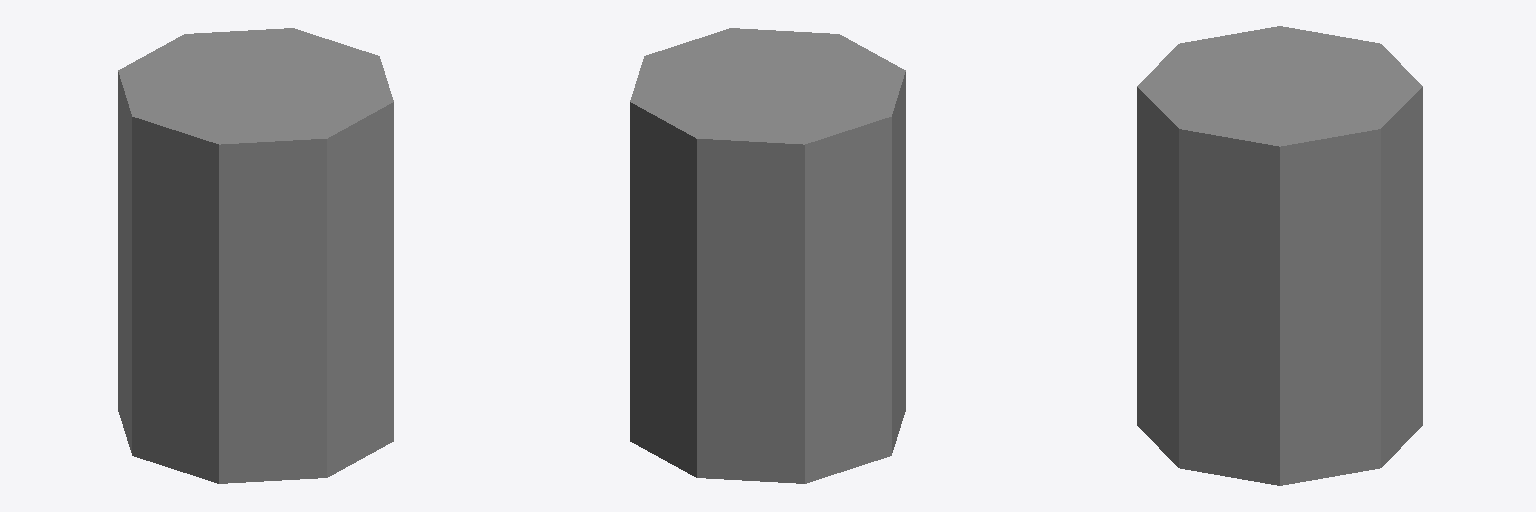
The model's file is vrTest2.unity_1.obj.
3 views of the same model, side by side, from view 1: azimuth 30°, elevation 25°; view 2: azimuth 150°, elevation 25°; view 3: azimuth 270°, elevation 25° (orthographic).
Visible parts, largest first — view 1: Barrel; view 2: Barrel; view 3: Barrel.
Part boxes in pixels (x1,y1,x2,y2): Barrel: (118,28,393,483); Barrel: (630,28,905,483); Barrel: (1137,26,1422,485).
Size of the model in its own units: 1.15 by 1.5 by 1.15.